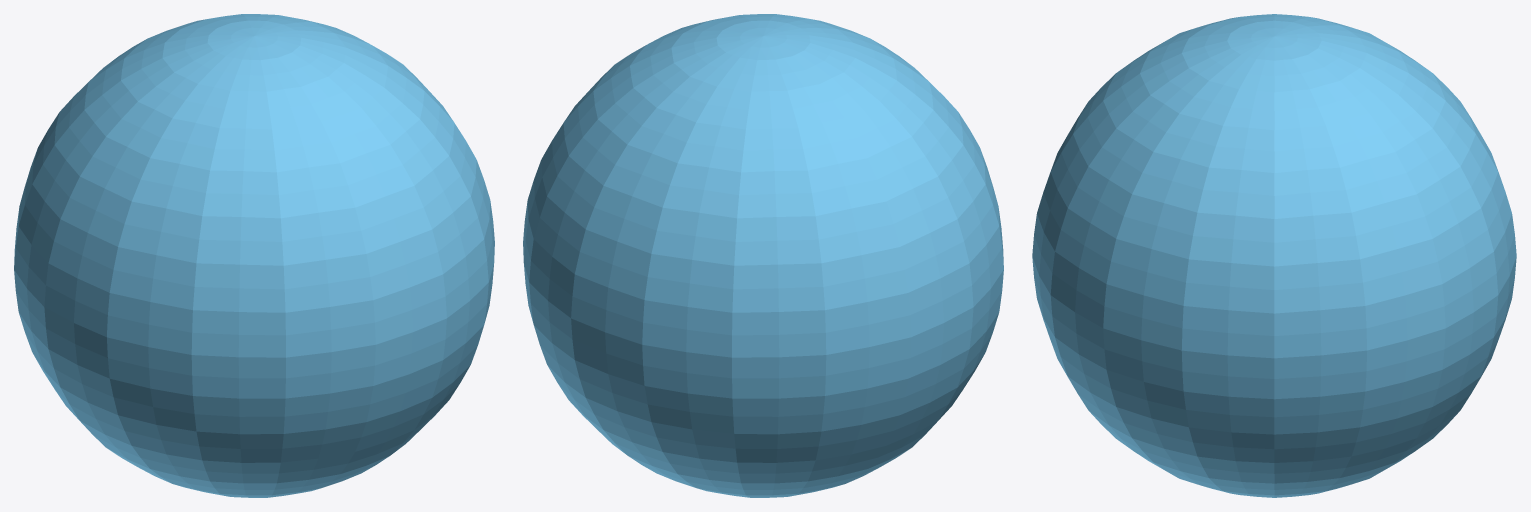
The model's file is morphing_creatures_origin.glb.
3 renders of one model, left to right at view 1: azimuth 30°, elevation 25°; view 2: azimuth 150°, elevation 25°; view 3: azimuth 270°, elevation 25°, orthographic.
Parts seen in each view (by area): view 1: CreatureBase; view 2: CreatureBase; view 3: CreatureBase.
Boxes of the visible parts, x1,y1,x2,y2 form: CreatureBase: (14, 14, 494, 497); CreatureBase: (523, 14, 1003, 497); CreatureBase: (1032, 14, 1516, 497).
Size of the model in its own units: 2 by 2 by 2.
